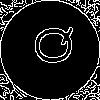Q: (25, 25, 75, 66)
